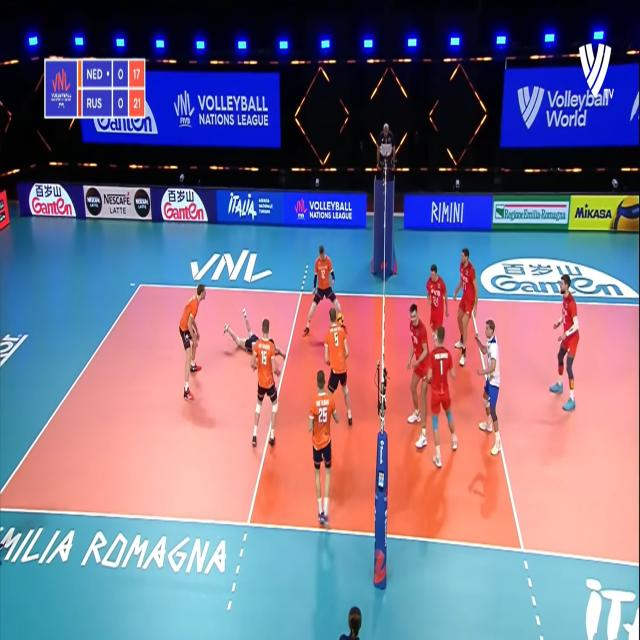player: (304, 368, 337, 524), (176, 279, 214, 411), (424, 328, 459, 468), (306, 238, 346, 348), (550, 270, 580, 414), (474, 313, 503, 455), (326, 310, 358, 437), (252, 318, 282, 452), (407, 298, 433, 447), (454, 245, 476, 372), (427, 258, 448, 338)
